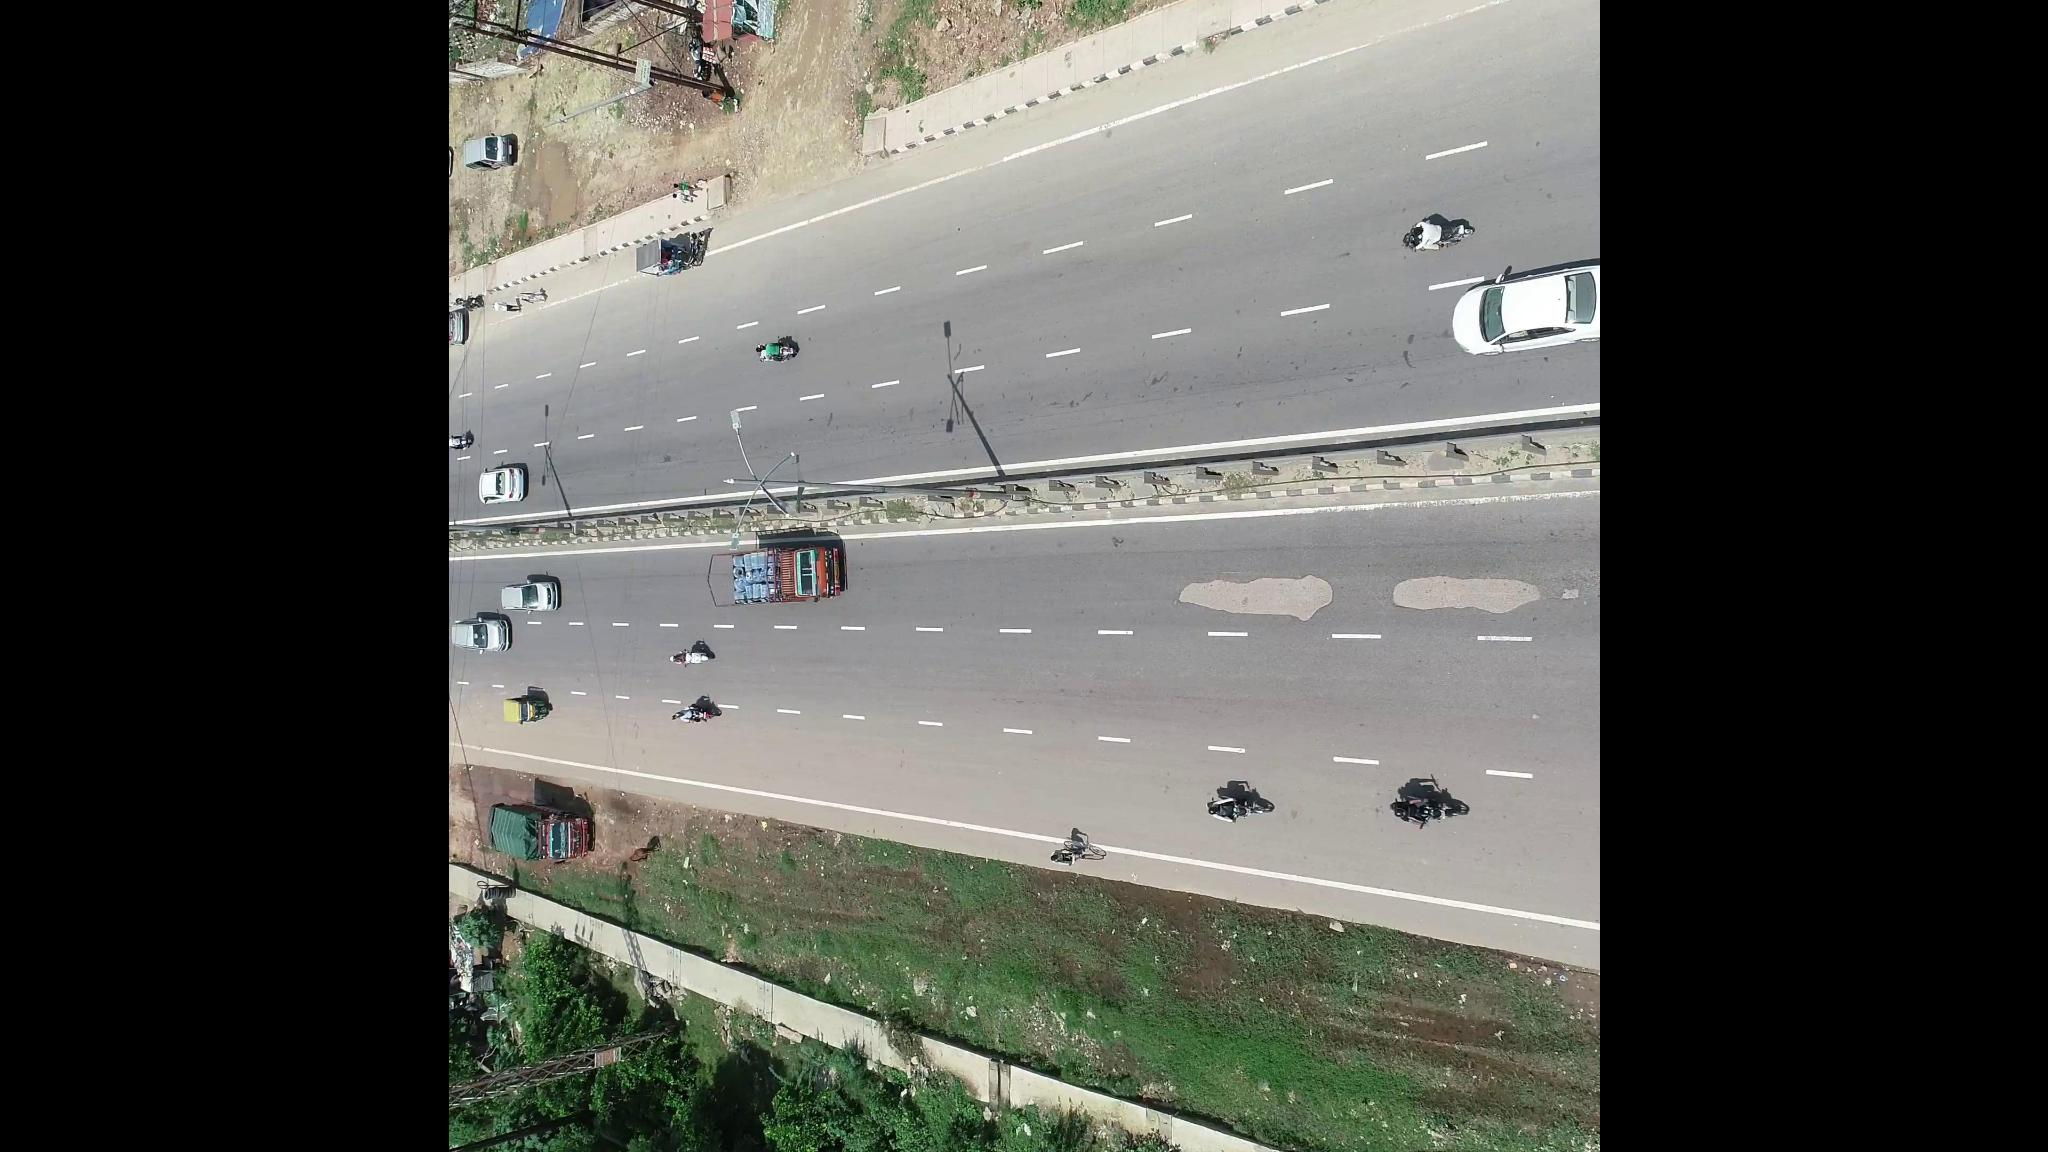Potholes: (1172, 549, 1357, 634), (1378, 565, 1560, 634)
